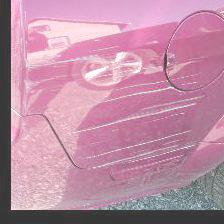bumper_scratch: (28, 31, 220, 179)
